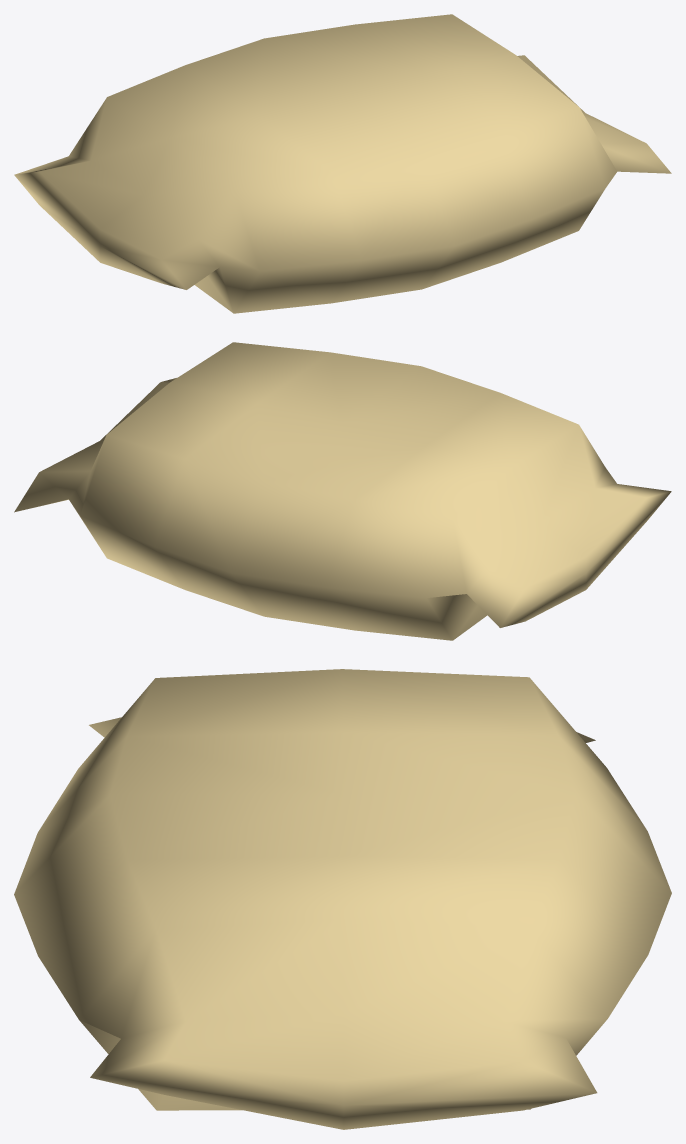
Rendered from Saco.fbx.
3 views of the same model, one above another, from view 1: azimuth 30°, elevation 25°; view 2: azimuth 150°, elevation 25°; view 3: azimuth 270°, elevation 25° (orthographic). The views are drawn at different scales.
Parts seen in each view (by area): view 1: Saco.001; view 2: Saco.001; view 3: Saco.001.
Boxes of the visible parts, x1,y1,x2,y2 form: Saco.001: (14,14,671,313); Saco.001: (14,342,671,640); Saco.001: (14,669,671,1129).
Bounding box in the file's own units: 99.48 × 26.62 × 79.12.
